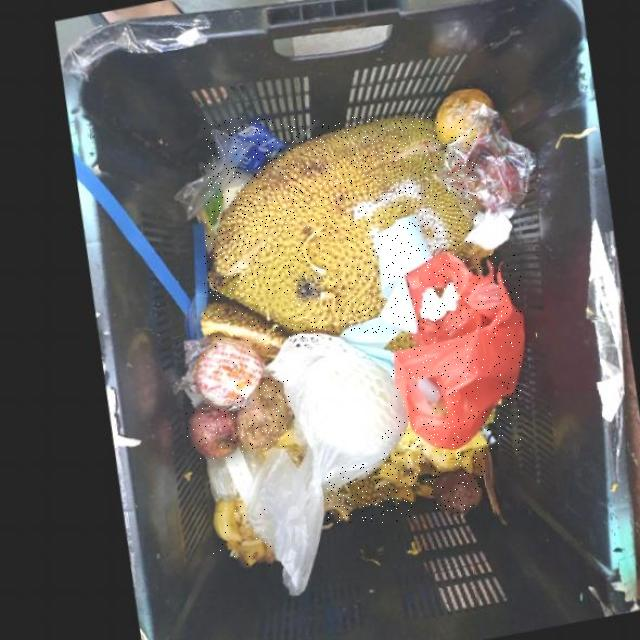biowaste: (204, 117, 477, 336), (376, 426, 487, 487), (197, 297, 287, 365), (326, 464, 415, 523), (235, 378, 290, 452), (212, 501, 273, 567), (187, 402, 237, 459), (430, 470, 480, 515)
plastic: (392, 254, 521, 451)
